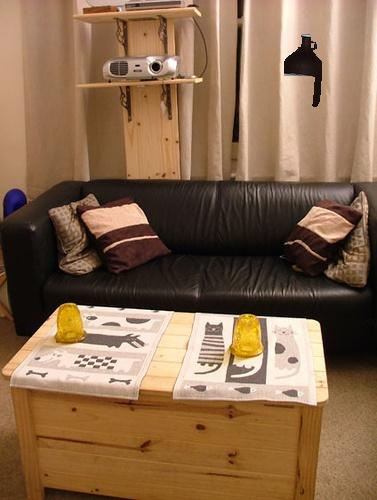tampered: (285, 35, 322, 107)
